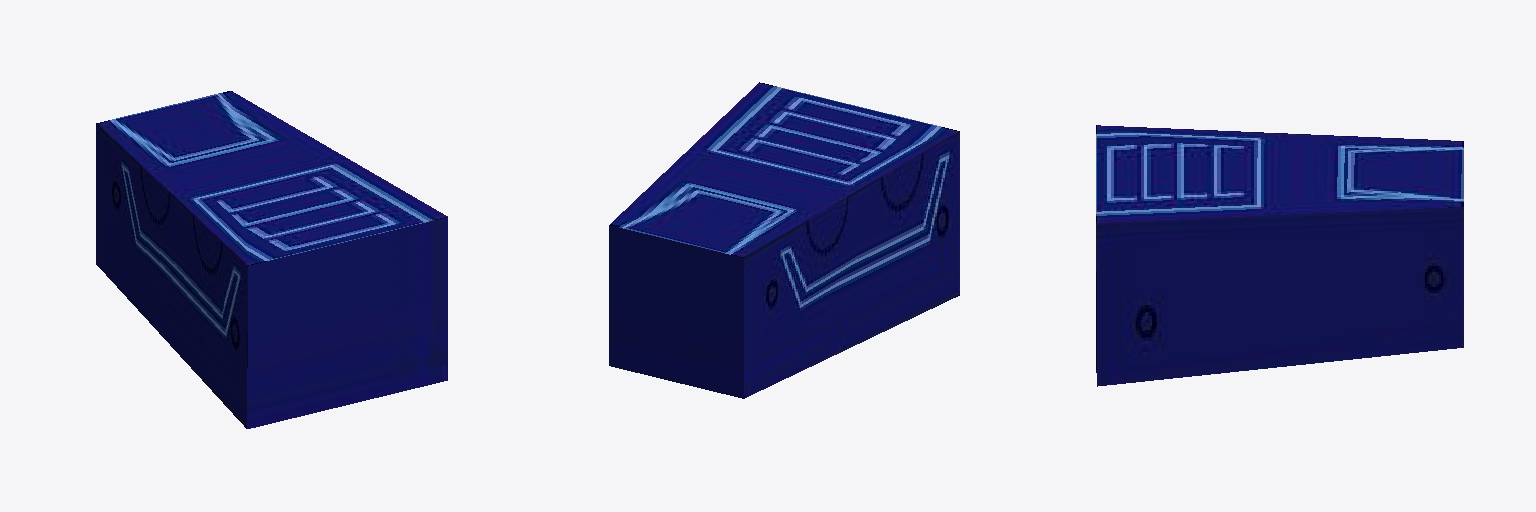
3 views of the same model, side by side, from view 1: azimuth 30°, elevation 25°; view 2: azimuth 150°, elevation 25°; view 3: azimuth 270°, elevation 25° (orthographic).
Visible parts, largest first — view 1: Pantorrilla2; view 2: Pantorrilla2; view 3: Pantorrilla2.
Boxes of the visible parts, box(x1,y1,x2,y2) form: Pantorrilla2: box(96, 91, 447, 428); Pantorrilla2: box(609, 82, 959, 398); Pantorrilla2: box(1096, 125, 1463, 386).
Size of the model in its own units: 2.98 by 2.32 by 4.73.
Materials: 1 (1 with a texture image).